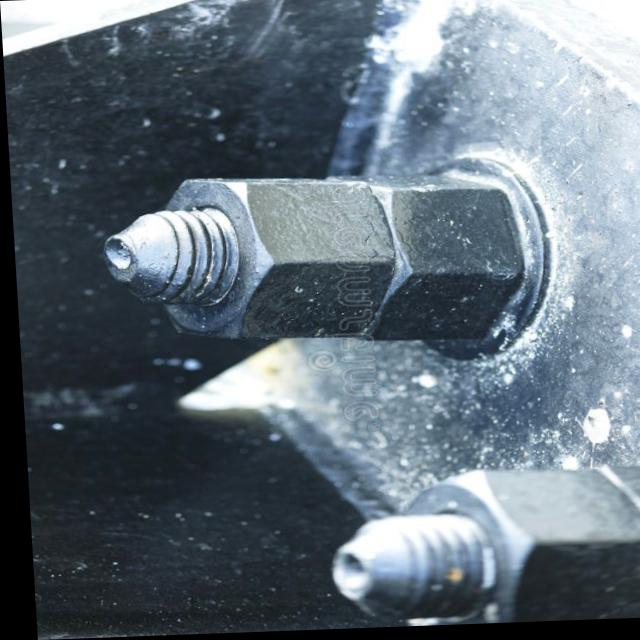Regular bolt: (147, 176, 392, 345), (395, 468, 640, 630), (361, 175, 517, 347)
